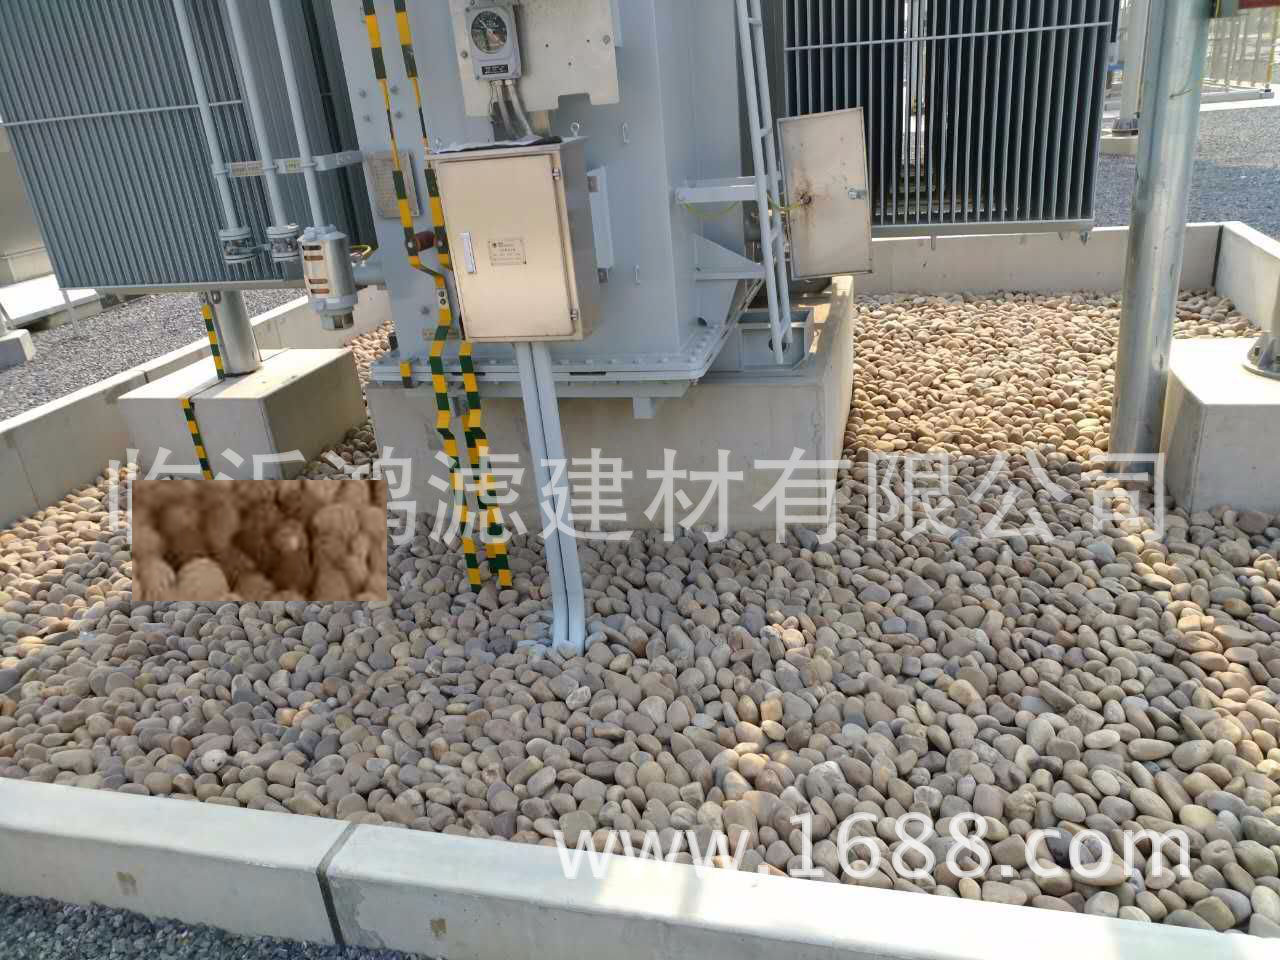oil: (135, 481, 391, 601)
